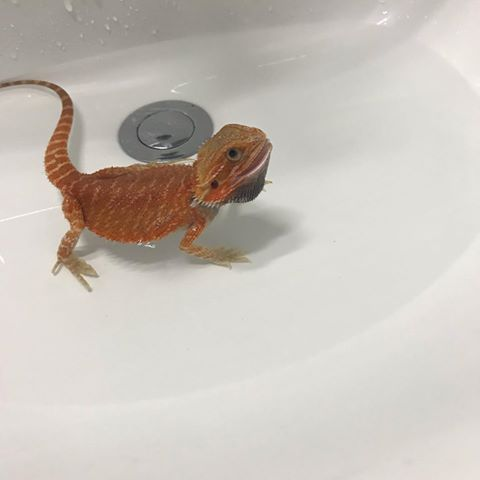bearded: (1, 78, 275, 295)
